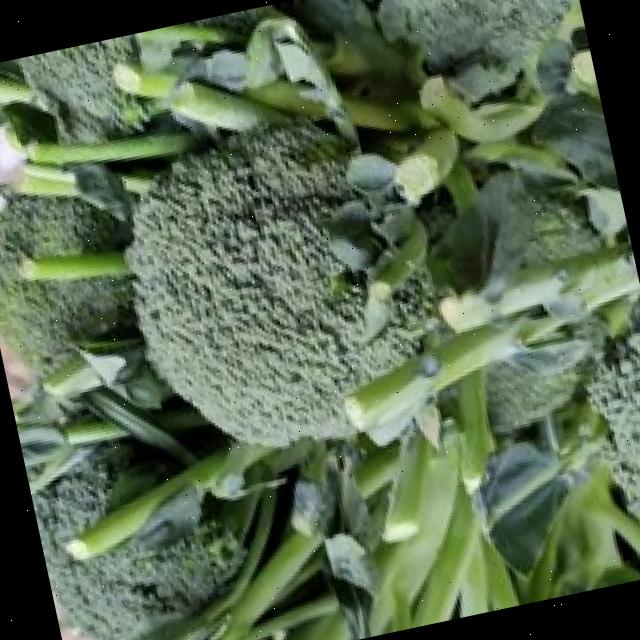Broccoli: (125, 120, 431, 445), (125, 120, 431, 445), (128, 120, 432, 439), (133, 123, 406, 444), (31, 445, 238, 640), (273, 0, 574, 101), (273, 0, 574, 82), (0, 197, 132, 375), (0, 199, 128, 370), (14, 33, 164, 139), (570, 297, 640, 514), (523, 63, 618, 186), (528, 62, 618, 186), (19, 53, 146, 138), (588, 308, 640, 513), (487, 364, 581, 432), (524, 177, 599, 262), (522, 180, 597, 261), (491, 365, 574, 431)
